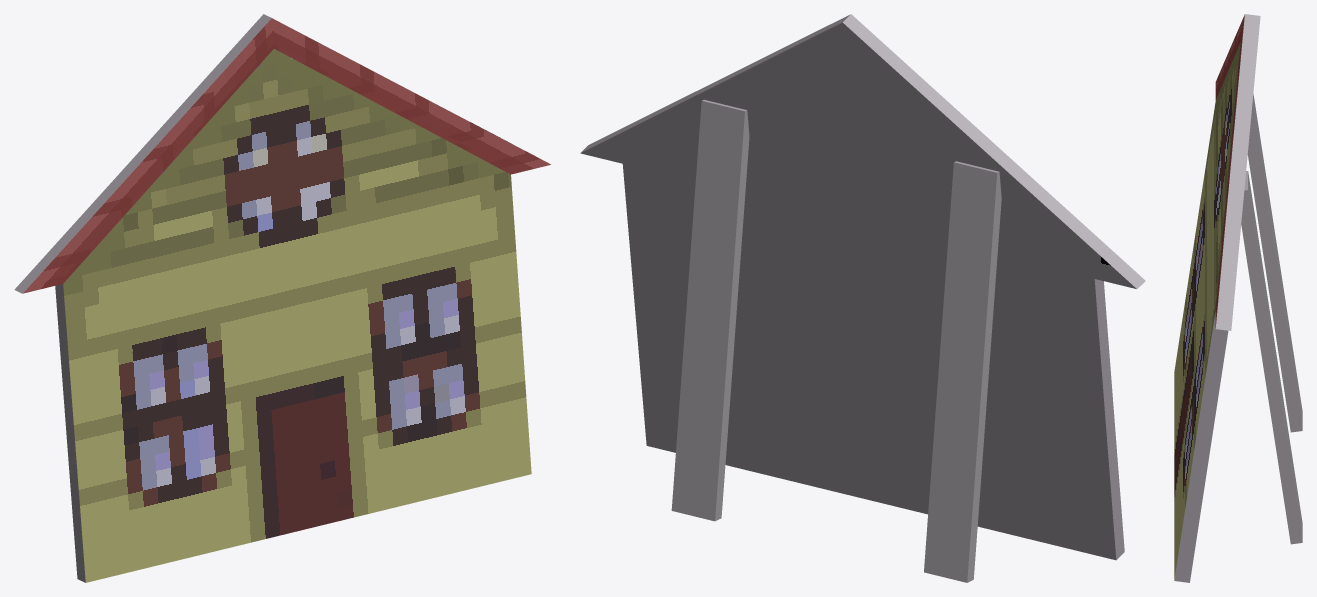
Rendered from FakeHome002.fbx.
3 views of the same model, side by side, from view 1: azimuth 30°, elevation 25°; view 2: azimuth 150°, elevation 25°; view 3: azimuth 270°, elevation 25° (orthographic). The views are drawn at different scales.
Visible parts, largest first — view 1: Cube.008; view 2: Cube.008; view 3: Cube.008.
Part boxes in pixels (x1,y1,x2,y2): Cube.008: [14, 14, 550, 582]; Cube.008: [580, 14, 1145, 582]; Cube.008: [1174, 14, 1302, 582].
Size of the model in its own units: 616 by 540 by 135.
Materials: 1 (1 with a texture image).
